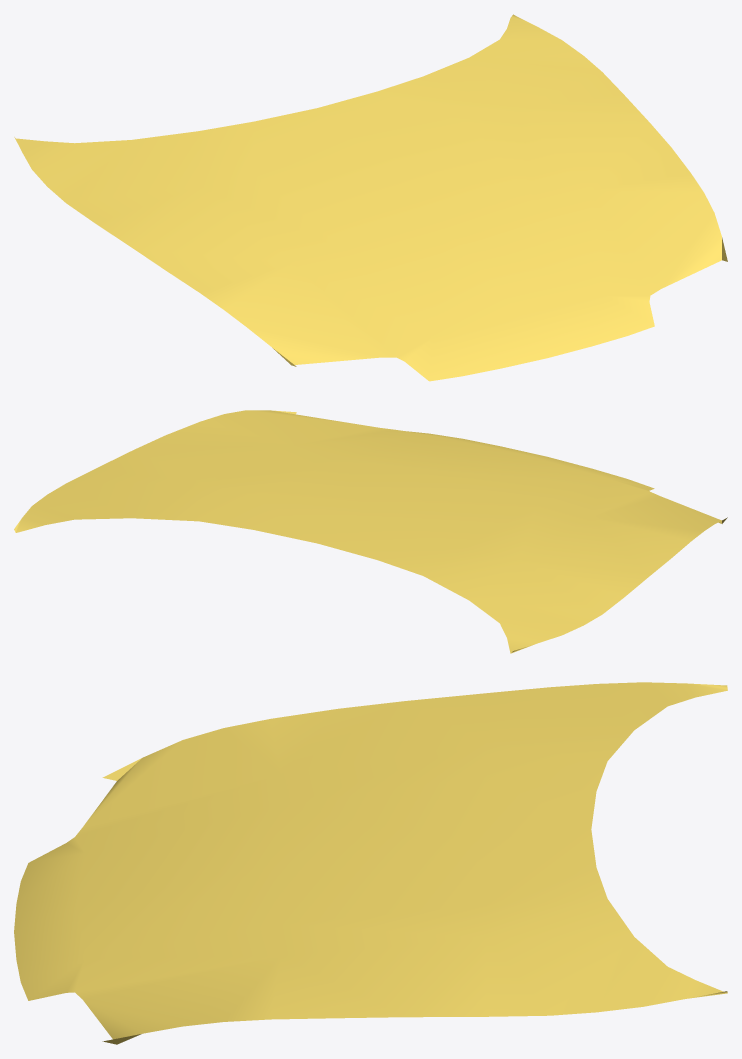
File: Supra_Bonnet_01_UnderTrim.fbx
3 renders of one model, top to bottom at view 1: azimuth 30°, elevation 25°; view 2: azimuth 150°, elevation 25°; view 3: azimuth 270°, elevation 25°, orthographic. The views are drawn at different scales.
Visible parts, largest first — view 1: Supra_Bonnet_01_UnderTrim; view 2: Supra_Bonnet_01_UnderTrim; view 3: Supra_Bonnet_01_UnderTrim.
Part boxes in pixels (x1,y1,x2,y2): Supra_Bonnet_01_UnderTrim: [14, 14, 727, 381]; Supra_Bonnet_01_UnderTrim: [14, 410, 727, 653]; Supra_Bonnet_01_UnderTrim: [14, 682, 727, 1044].
Size of the model in its own units: 157 by 22.86 by 144.
